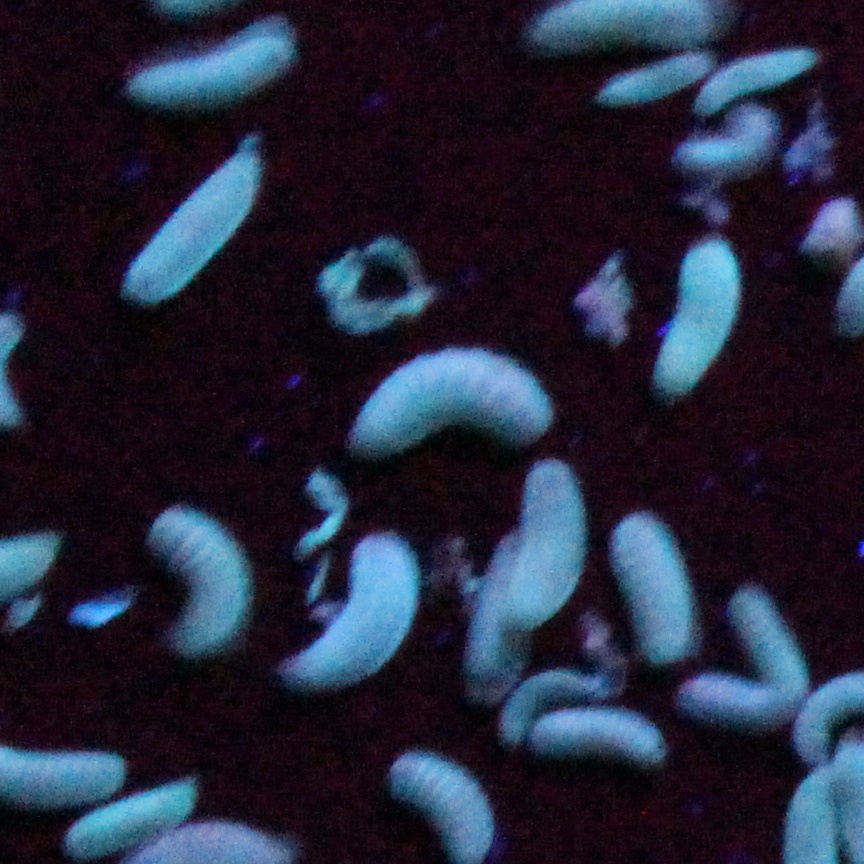larve: (122, 132, 271, 325), (275, 517, 422, 699), (347, 341, 552, 455), (294, 204, 445, 346), (140, 499, 254, 666), (654, 225, 740, 432), (599, 513, 696, 669), (113, 34, 299, 108), (505, 459, 587, 624), (1, 740, 128, 808), (738, 559, 794, 696), (705, 50, 824, 103), (542, 720, 661, 766), (599, 48, 703, 99), (667, 699, 787, 739), (48, 809, 152, 848), (5, 534, 63, 587)
